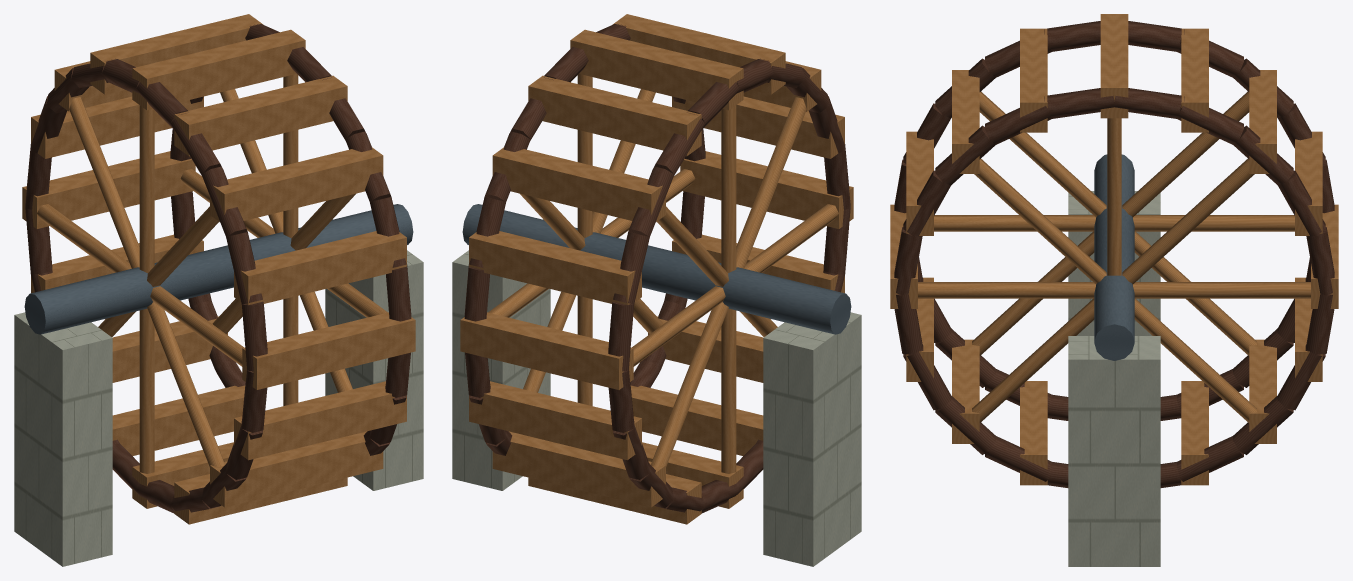
Rendered from waterwheel.glb.
3 renders of one model, left to right at view 1: azimuth 30°, elevation 25°; view 2: azimuth 150°, elevation 25°; view 3: azimuth 270°, elevation 25°, orthographic. The views are drawn at different scales.
Visible parts, largest first — view 1: waterwheel; view 2: waterwheel; view 3: waterwheel.
Part boxes in pixels (x1,y1,x2,y2): waterwheel: (14, 14, 423, 566); waterwheel: (452, 14, 861, 566); waterwheel: (890, 14, 1338, 566).
Size of the model in its own units: 2.2 by 2.58 by 2.43.
Materials: 4 (4 with a texture image).
